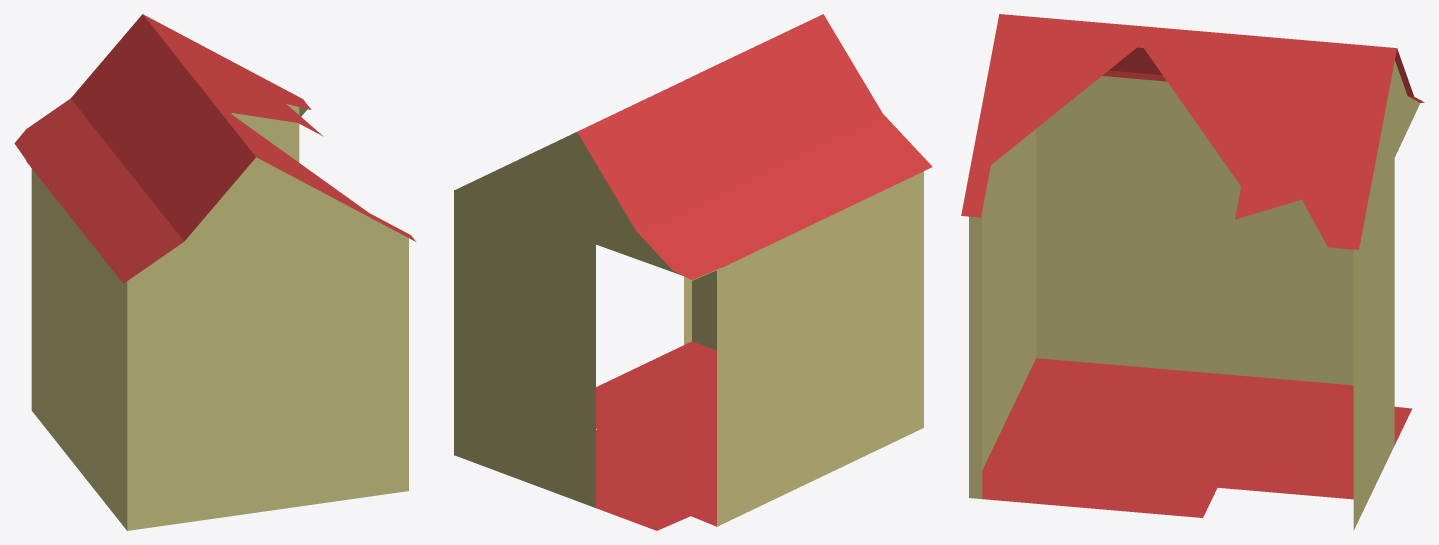
3 renders of one model, left to right at view 1: azimuth 30°, elevation 25°; view 2: azimuth 150°, elevation 25°; view 3: azimuth 270°, elevation 25°, orthographic. The views are drawn at different scales.
Bounding box in the file's own units: 15.67 × 17.1 × 16.55.
